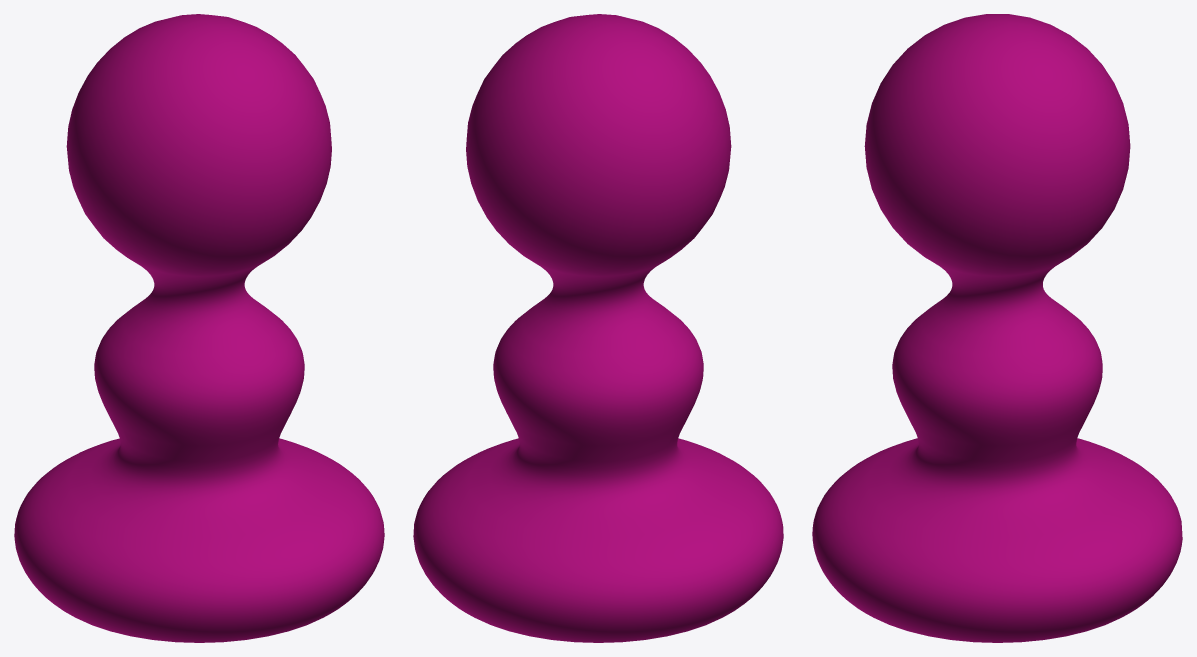
The model's file is Fate Game Piece V2 Fandango.glb.
The picture shows the model from 3 angles, left to right: view 1: azimuth 30°, elevation 25°; view 2: azimuth 150°, elevation 25°; view 3: azimuth 270°, elevation 25°; orthographic projection.
Visible parts, largest first — view 1: Solid1; view 2: Solid1; view 3: Solid1.
Boxes of the visible parts, x1,y1,x2,y2 form: Solid1: (14, 14, 384, 642); Solid1: (413, 14, 783, 642); Solid1: (812, 14, 1182, 642).
Size of the model in its own units: 0.0334 by 0.0547 by 0.0334.
